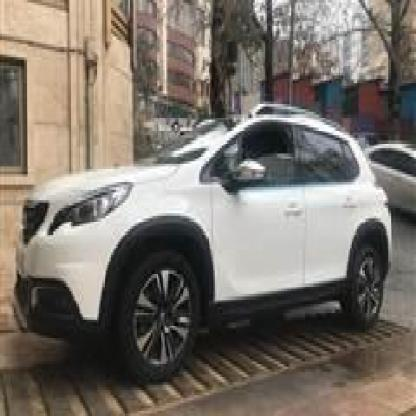Car: (14, 117, 390, 377), (365, 132, 416, 226)
